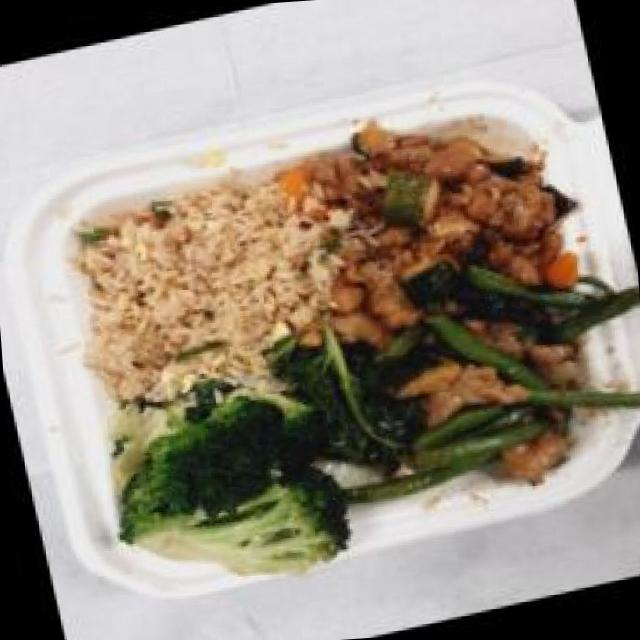Fried Rice: (52, 156, 351, 415)
Kung Pao Chicken: (265, 81, 597, 358)
String Bean Chicken Breast: (323, 243, 640, 524)
Super Greens: (90, 339, 421, 603)
